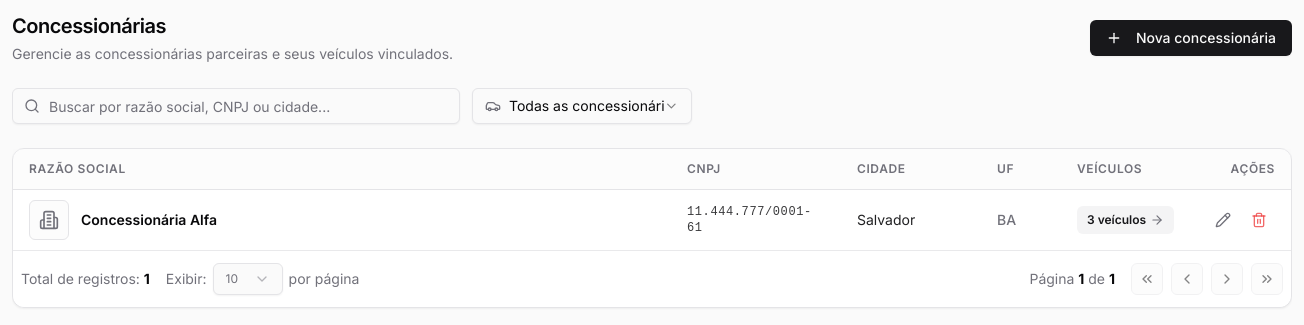
Test: DealersPage › should filter dealers list by search term
The image size is (1304, 325).
In the field with placeholder "Buscar por razão social, CNPJ ou cidade...": point(236, 106) [12,88,460,124], type "Salvador"
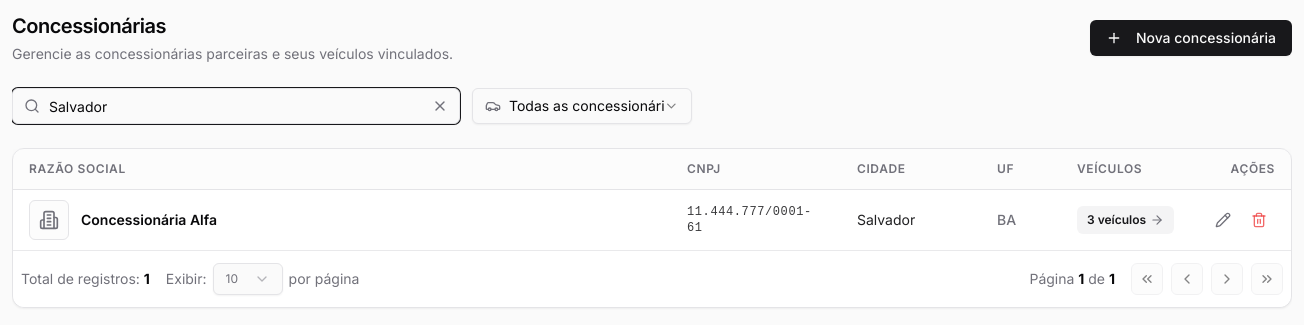
Click the button named "Limpar busca": point(440, 106) [432,98,448,114]
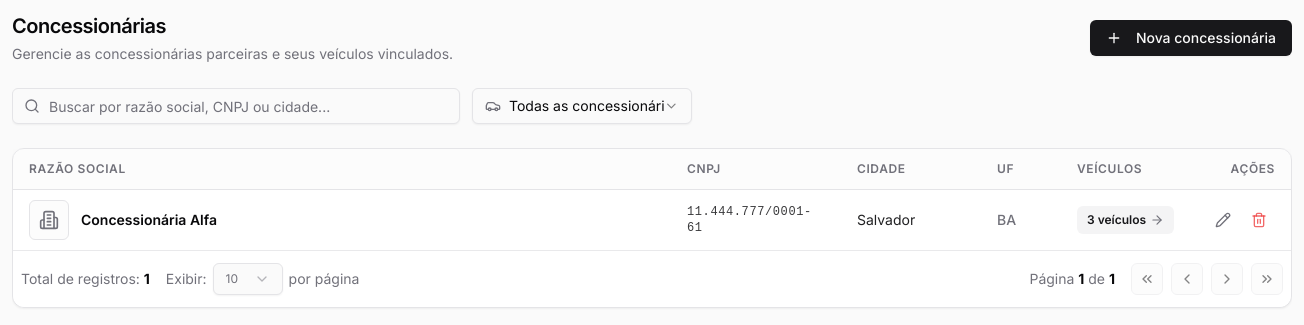
Result: the field with placeholder "Buscar por razão social, CNPJ ou cidade..." is empty at [12,88,460,124]
